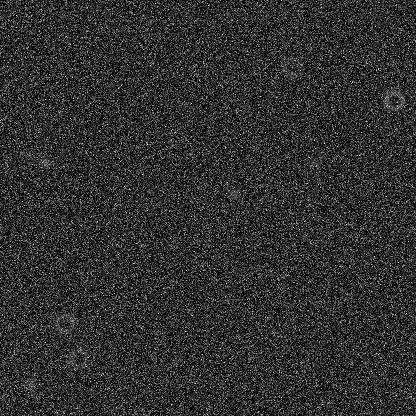Ring: (381, 88, 405, 112), (66, 346, 90, 370), (52, 311, 76, 335), (279, 55, 303, 79)
Spot: (36, 153, 52, 169), (22, 375, 38, 391), (225, 185, 241, 201), (306, 155, 322, 171)
